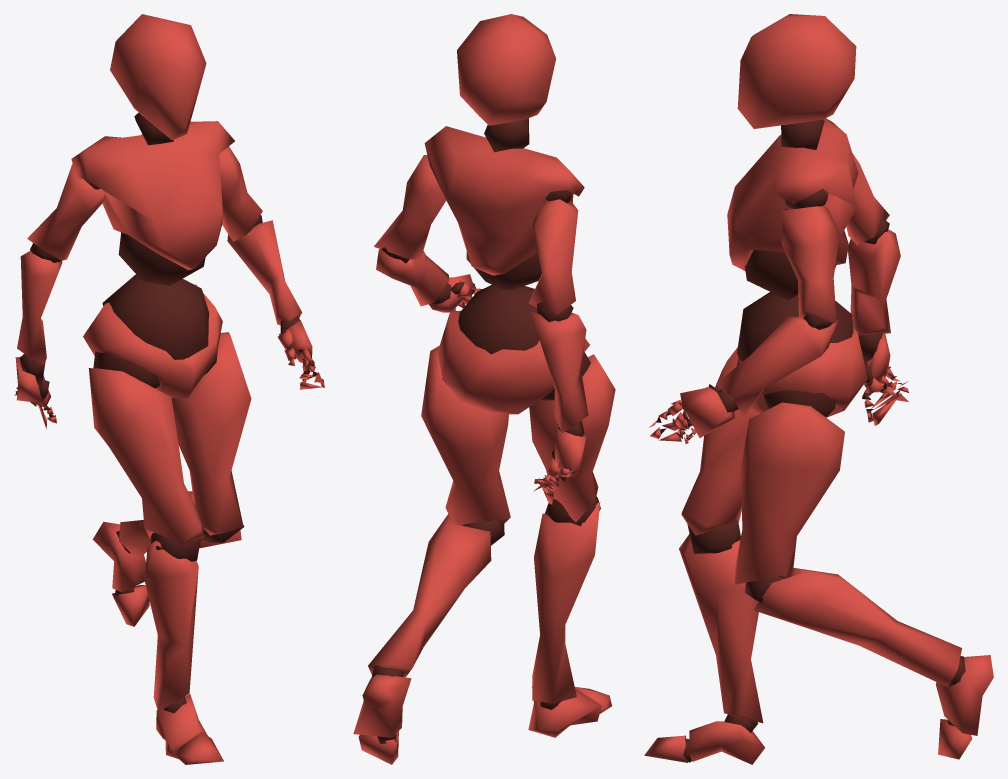
3 renders of one model, left to right at view 1: azimuth 30°, elevation 25°; view 2: azimuth 150°, elevation 25°; view 3: azimuth 270°, elevation 25°, orthographic. The views are drawn at different scales.
Parts seen in each view (by area): view 1: Beta_Surface; view 2: Beta_Surface; view 3: Beta_Surface.
Boxes of the visible parts, left/top/right/bottom form: Beta_Surface: left=14, top=14, right=324, bottom=764; Beta_Surface: left=353, top=14, right=615, bottom=764; Beta_Surface: left=644, top=14, right=993, bottom=764.
Size of the model in its own units: 4.78 by 14.31 by 6.03.
